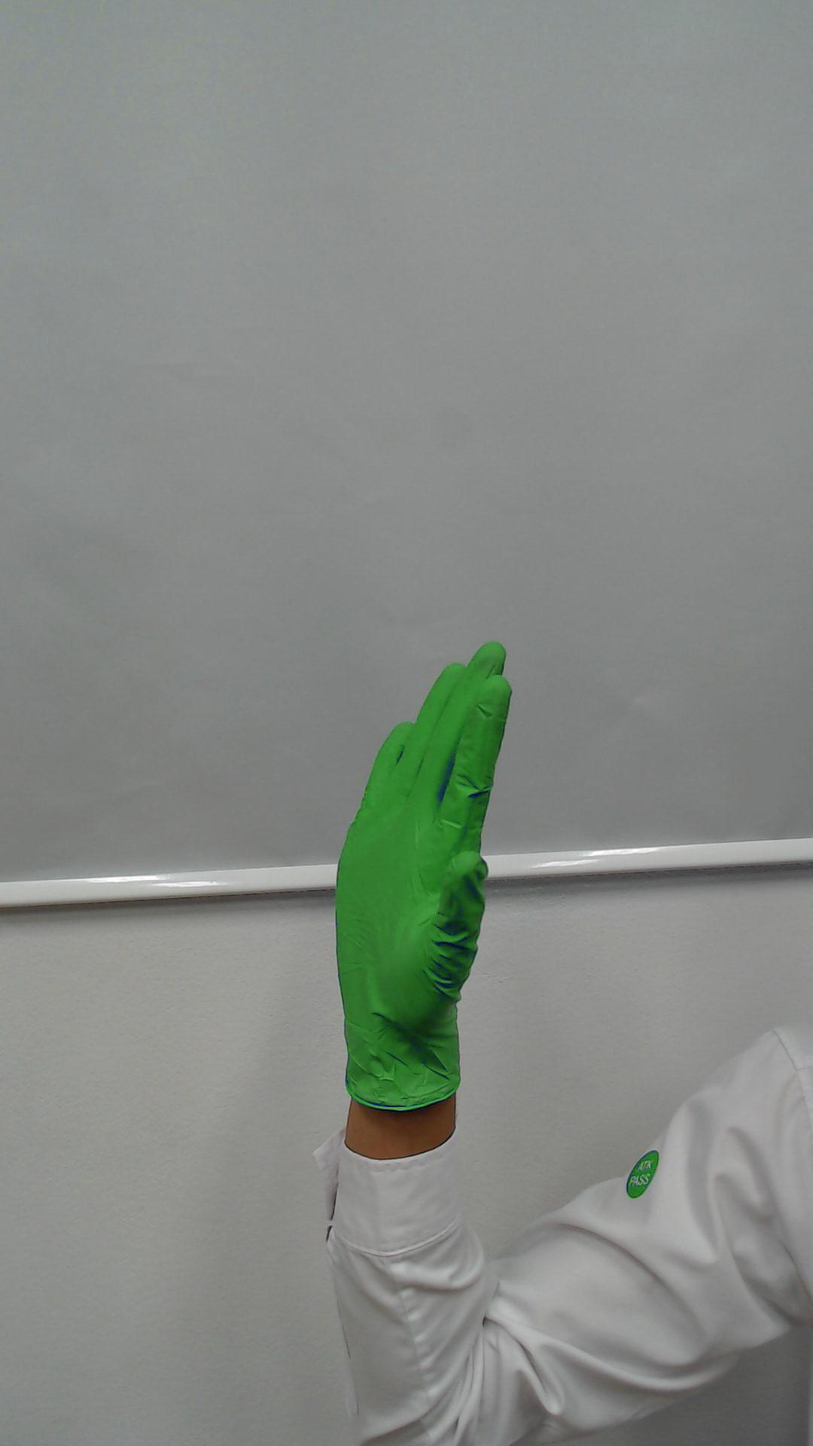gloves: (321, 629, 524, 1013)
